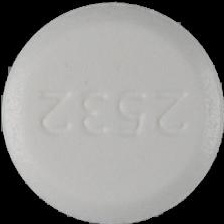54868-3861: (0, 0, 224, 224)
